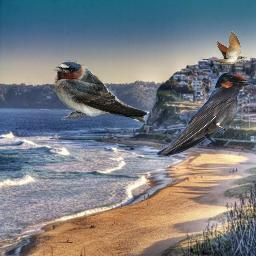Cuckoo: (199, 31, 247, 64)
Swallow: (156, 72, 253, 157), (51, 60, 149, 124)
